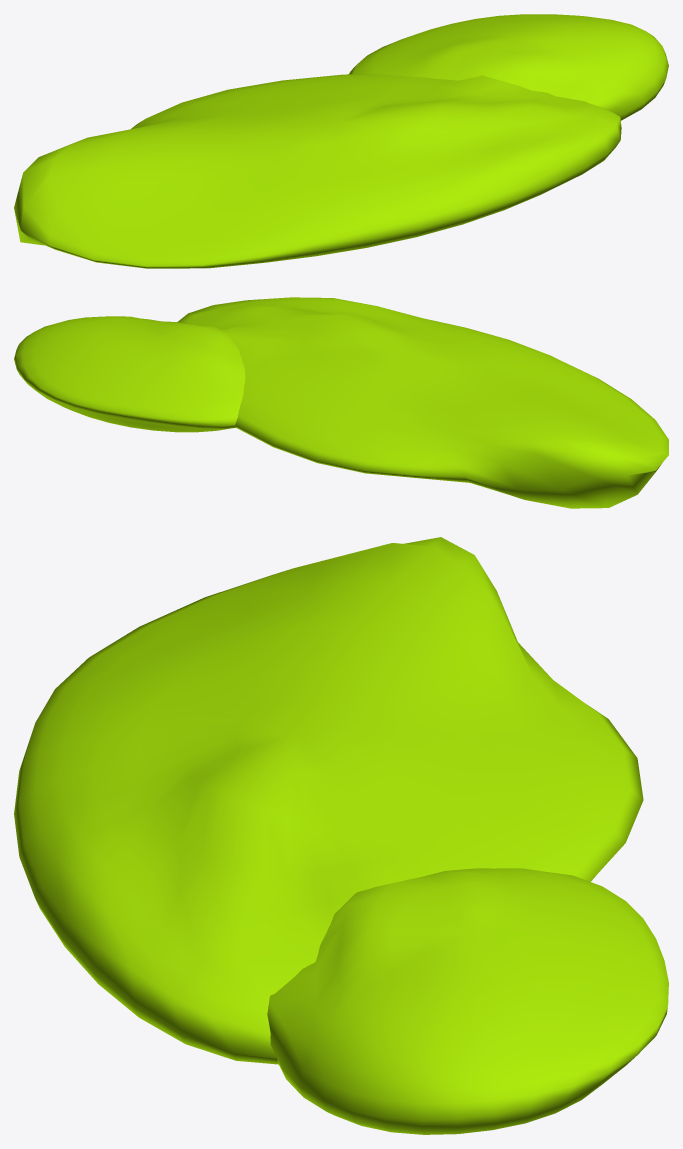
Rendered from isla.fbx.
The picture shows the model from 3 angles, top to bottom: view 1: azimuth 30°, elevation 25°; view 2: azimuth 150°, elevation 25°; view 3: azimuth 270°, elevation 25°; orthographic projection. The views are drawn at different scales.
Visible parts, largest first — view 1: Sphere; view 2: Sphere; view 3: Sphere.
Boxes of the visible parts, x1,y1,x2,y2 form: Sphere: [14, 14, 668, 268]; Sphere: [14, 297, 668, 508]; Sphere: [14, 537, 668, 1134].
Bounding box in the file's own units: 12.23 × 6.12 × 1.54.
